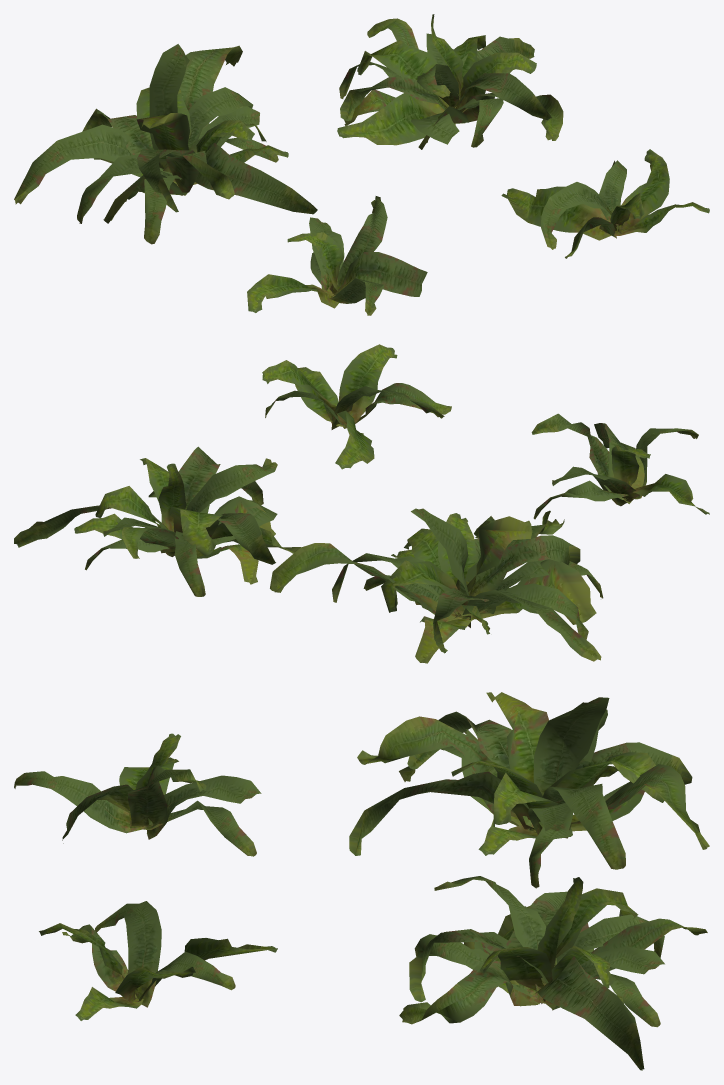
Rendered from fern_02.35898fbc.glb.
The picture shows the model from 3 angles, top to bottom: view 1: azimuth 30°, elevation 25°; view 2: azimuth 150°, elevation 25°; view 3: azimuth 270°, elevation 25°; orthographic projection. The views are drawn at different scales.
Visible parts, largest first — view 1: fern_02_b, fern_02_c, fern_02_a, fern_02_d; view 2: fern_02_b, fern_02_c, fern_02_d, fern_02_a; view 3: fern_02_b, fern_02_c, fern_02_a, fern_02_d.
Part boxes in pixels (x1,y1,x2,y2): fern_02_b: [14, 44, 317, 244]; fern_02_c: [337, 14, 563, 149]; fern_02_a: [247, 196, 427, 315]; fern_02_d: [501, 149, 709, 258]; fern_02_b: [270, 508, 603, 663]; fern_02_c: [14, 446, 300, 596]; fern_02_d: [262, 344, 451, 469]; fern_02_a: [531, 413, 709, 519]; fern_02_b: [349, 692, 709, 888]; fern_02_c: [399, 876, 707, 1070]; fern_02_a: [14, 733, 261, 856]; fern_02_d: [39, 901, 277, 1020].
Size of the model in its own units: 1.97 by 0.4277 by 1.72.
Materials: 1 (1 with a texture image).
